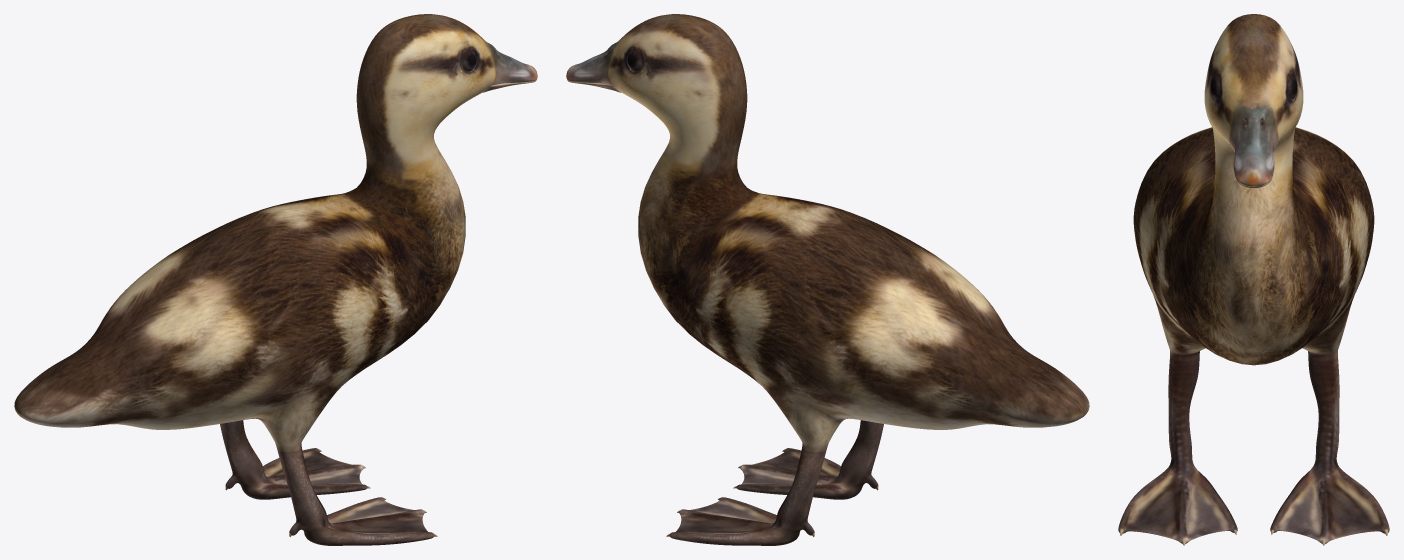
Rendered from O'rdak bolasi.fbx.
3 views of the same model, side by side, from view 1: azimuth 30°, elevation 25°; view 2: azimuth 150°, elevation 25°; view 3: azimuth 270°, elevation 25° (orthographic). The views are drawn at different scales.
Visible parts, largest first — view 1: 12250_Bird_v1_L3; view 2: 12250_Bird_v1_L3; view 3: 12250_Bird_v1_L3.
Boxes of the visible parts, left/top/right/bottom form: 12250_Bird_v1_L3: left=14, top=14, right=537, bottom=545; 12250_Bird_v1_L3: left=566, top=14, right=1089, bottom=545; 12250_Bird_v1_L3: left=1118, top=14, right=1389, bottom=545.
Bounding box in the file's own units: 1652 × 1431 × 655.
1 material, 1 textured.
